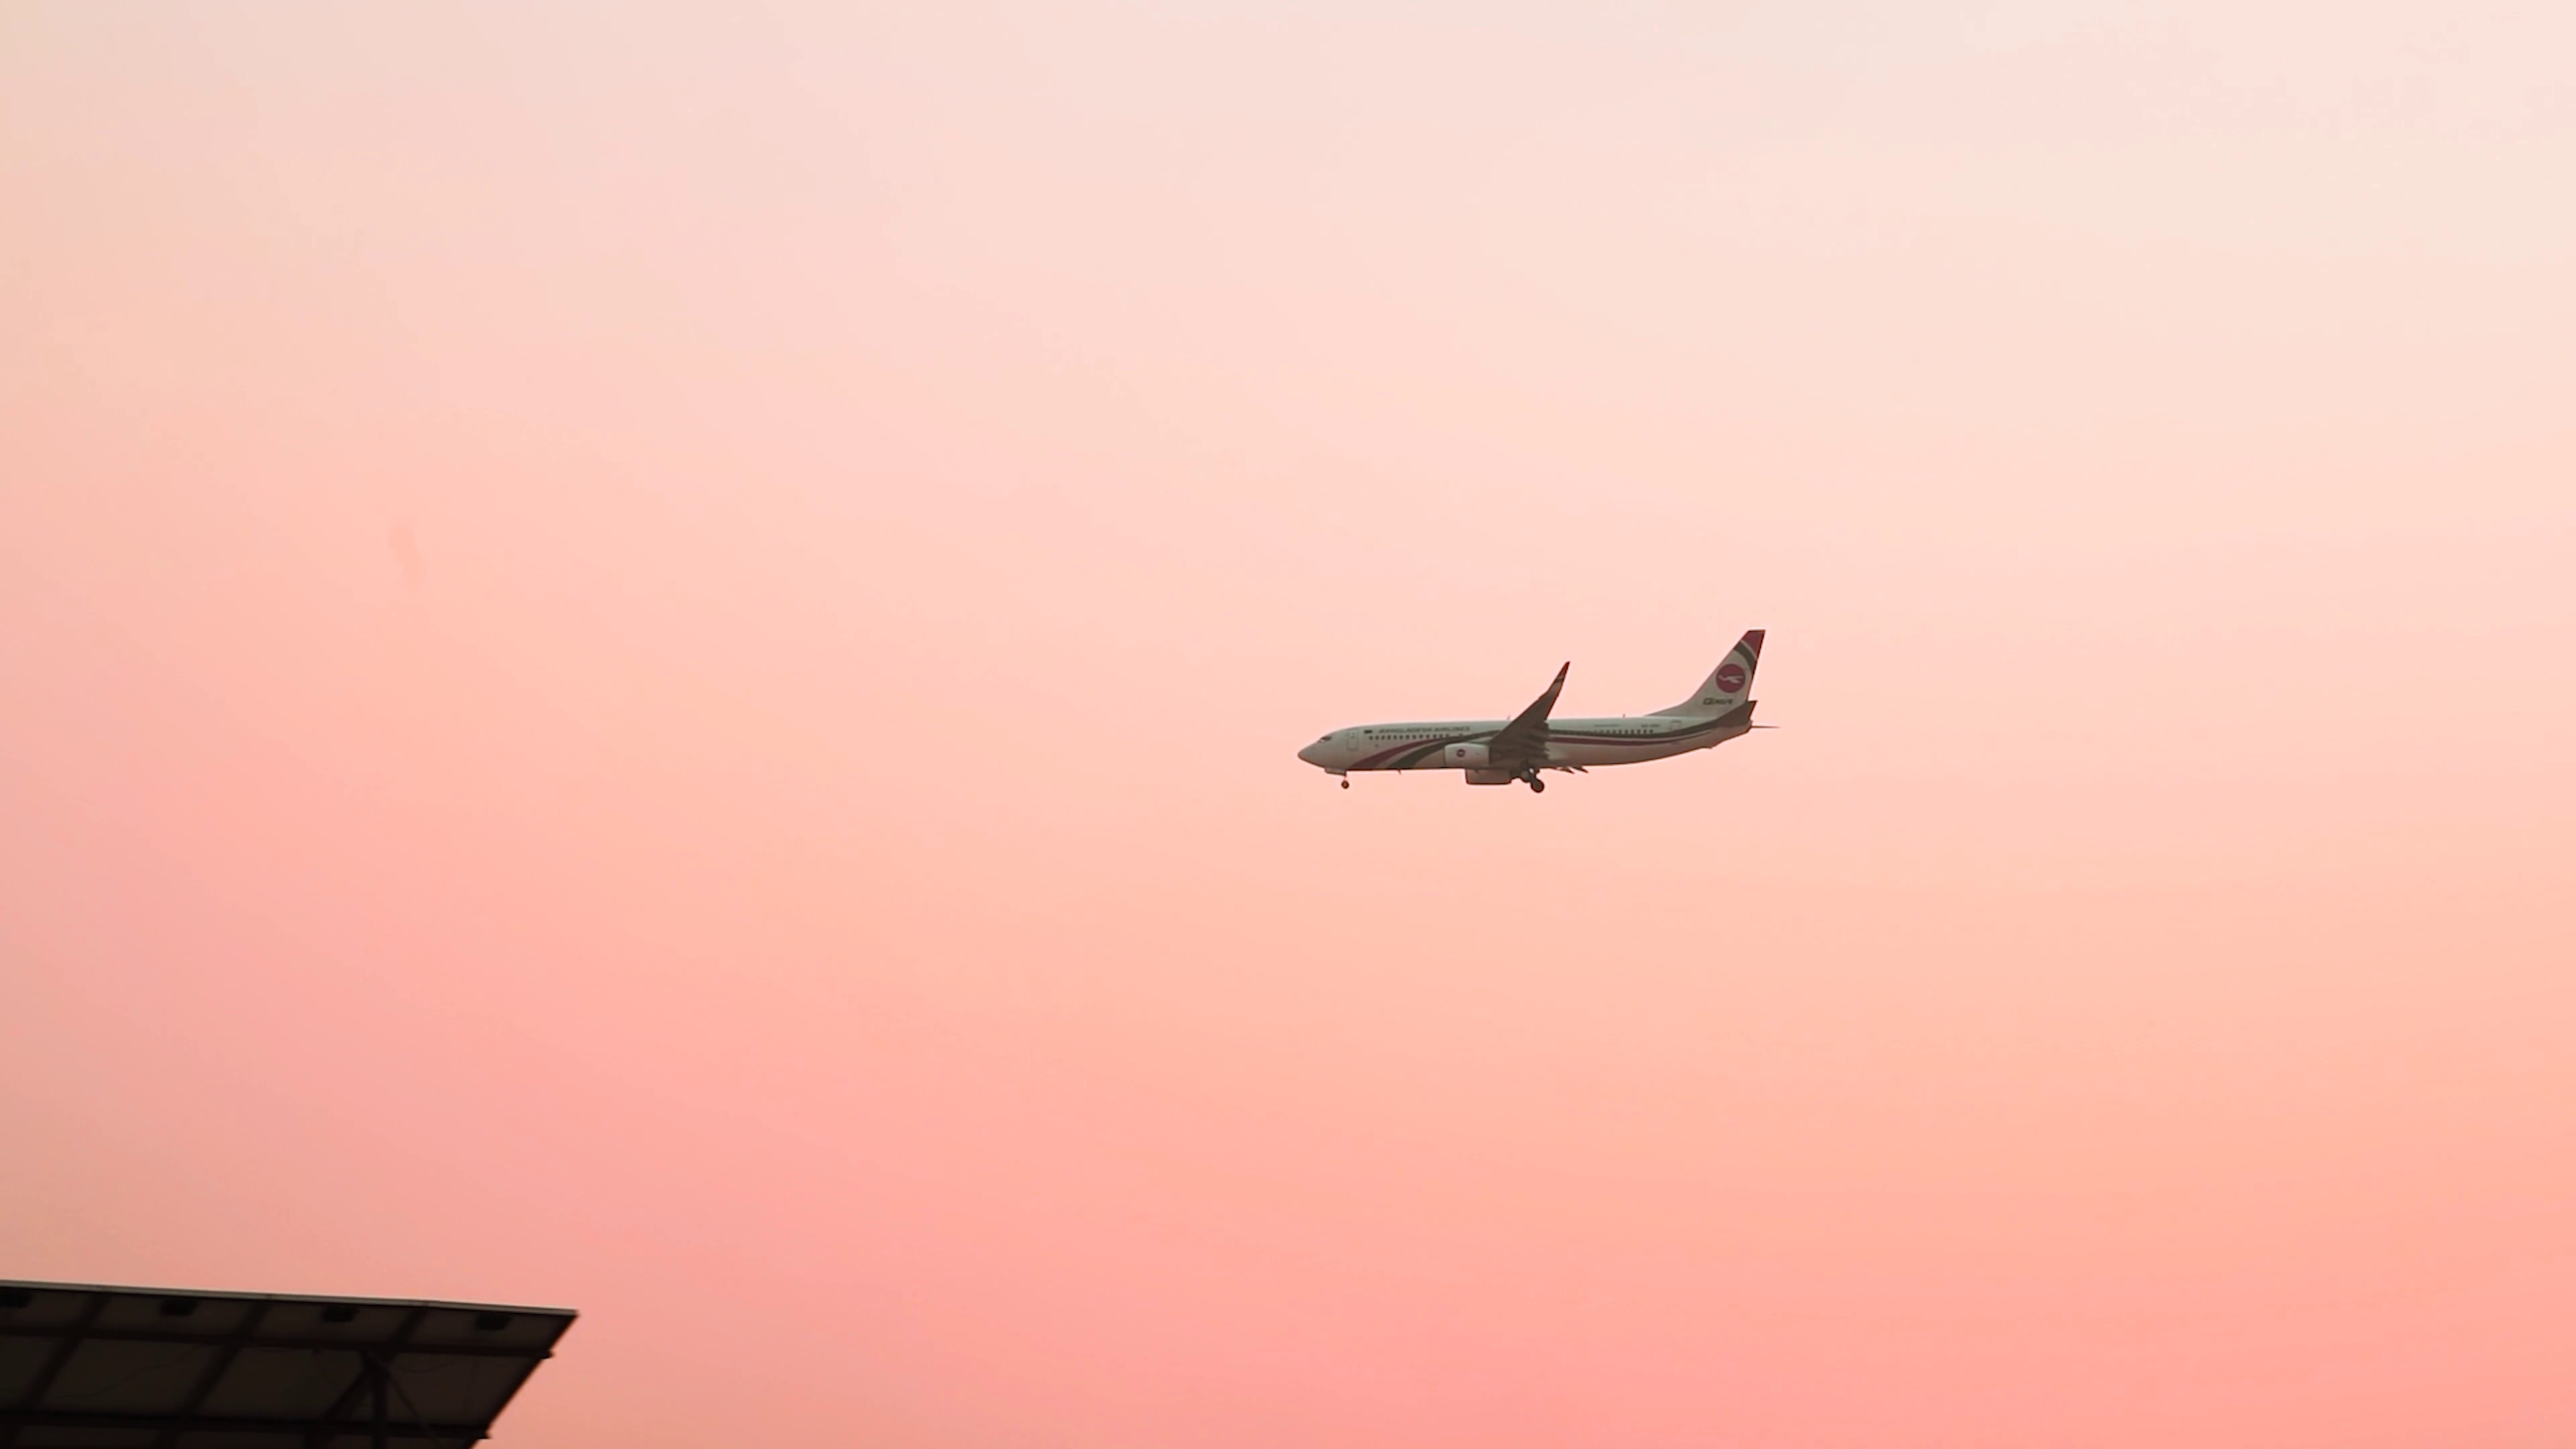plane: (1295, 628, 1780, 791)
